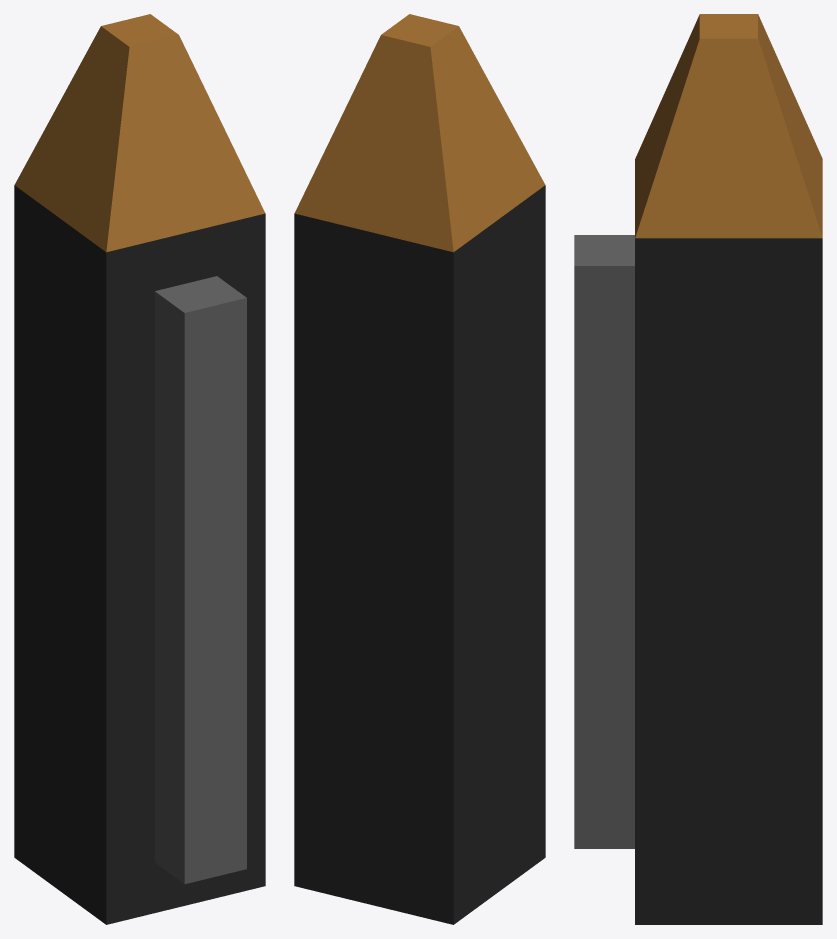
Rendered from TestRepairTool.fbx.
3 renders of one model, left to right at view 1: azimuth 30°, elevation 25°; view 2: azimuth 150°, elevation 25°; view 3: azimuth 270°, elevation 25°, orthographic. The views are drawn at different scales.
Visible parts, largest first — view 1: Cube; view 2: Cube; view 3: Cube.
Boxes of the visible parts, x1=… form: Cube: x1=14, y1=14, x2=265, y2=924; Cube: x1=294, y1=14, x2=545, y2=924; Cube: x1=574, y1=14, x2=822, y2=924.
Bounding box in the file's own units: 5.73 × 28.92 × 7.58.
1 material, 1 textured.
